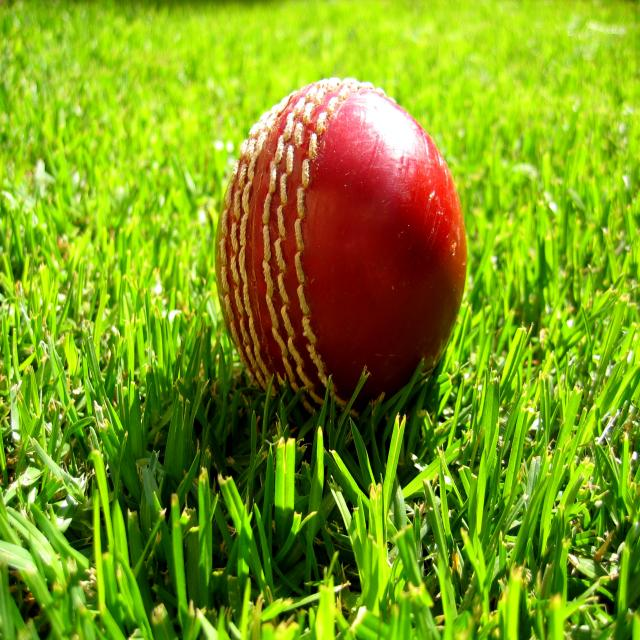ball: (209, 71, 470, 416)
